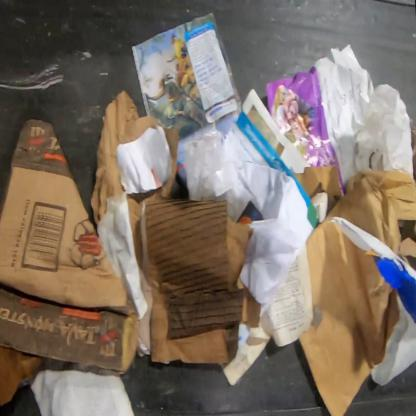cardboard: (0, 119, 139, 376), (297, 217, 402, 415), (138, 199, 260, 364), (90, 91, 178, 268), (325, 168, 416, 256), (0, 344, 51, 409), (293, 164, 344, 218), (399, 220, 415, 272)
soft_plastic: (184, 131, 254, 221)
